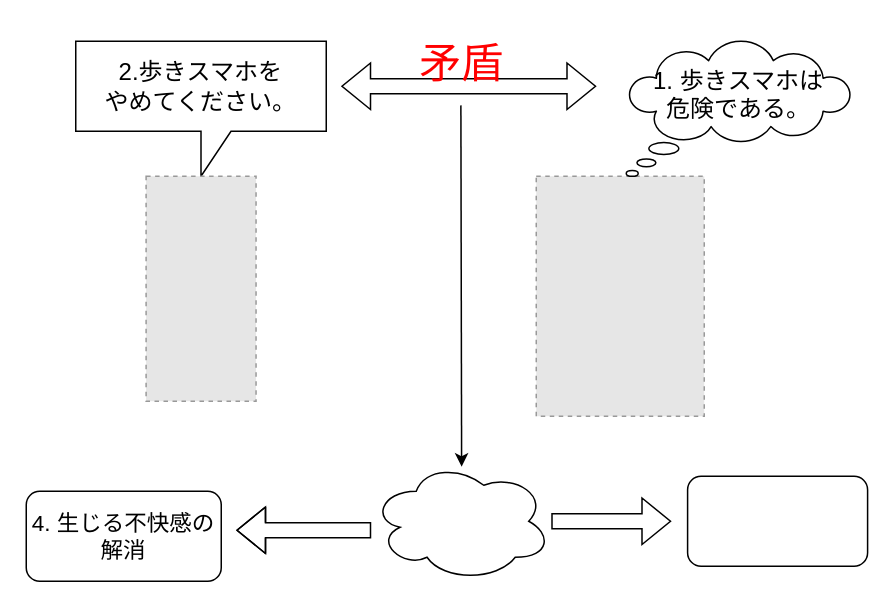
The diagram is 894 pixels wide and 608 high, and some of its shapes have lost their labels. Grey dashed boxes stand in for pictures. The shapes that lost their labels are listed below. From the top down, each one's centre as x and y in pixels, then its label:
point 460,520: 3. 不快感
point 777,520: 4'.歩きスマホの中止
